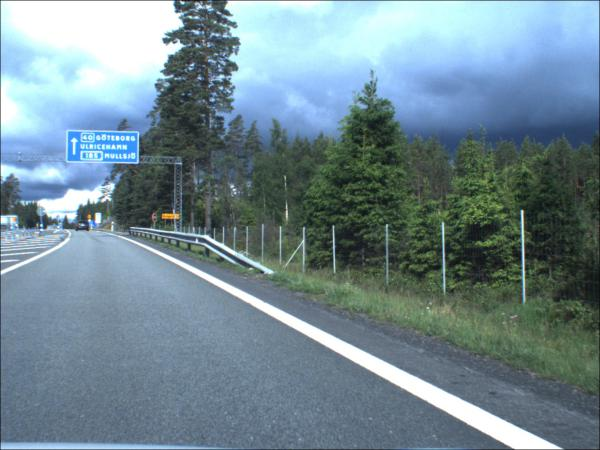100_SIGN: (89, 216, 93, 221), (14, 219, 19, 223)
PASS_RIGHT_SIDE: (58, 216, 62, 221)
PRIORITY_ROAD: (90, 220, 93, 224)
STOP: (154, 214, 160, 223)
